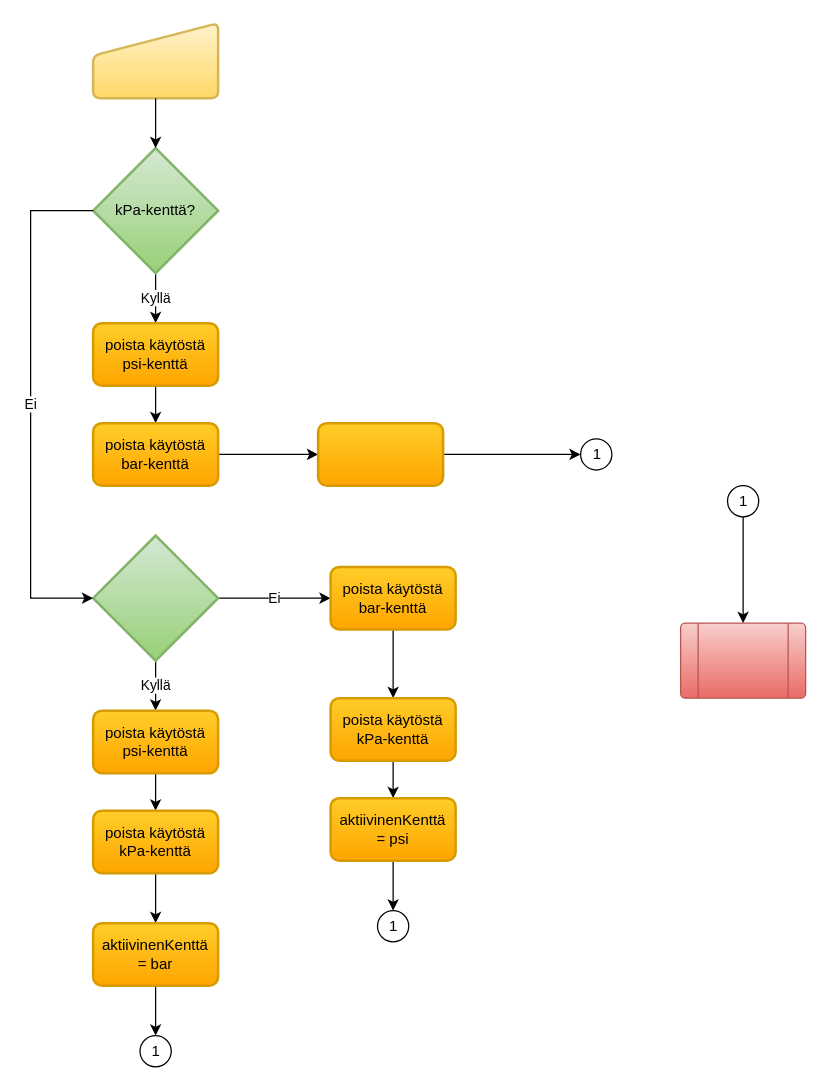
Some shapes in this 828 by 1089 pixel diagram are drawn without their labels. Each missing label, with the centre of its shape:
"aktiivinenKenttä = kpa" goes at point 380,453.
"Bar-kenttä?" goes at point 155,597.
"Click" goes at point 155,60.
"Järkevyys-tarkistus" goes at point 742,660.
